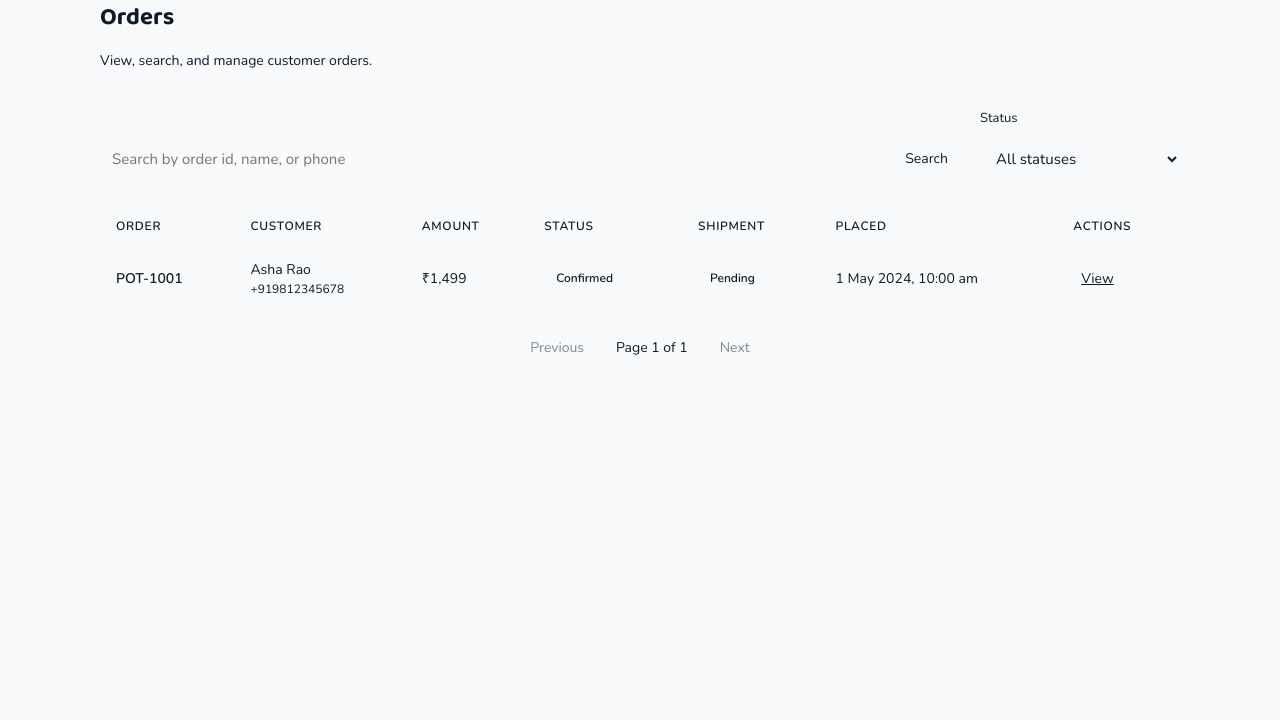
Test: Admin OrdersPage (Req 17) › shows a persistent manual-Shiprocket action for cancelled orders with a live shipment
Expected: the text "POT-1001" is shown, top-left (116, 268), bottom-right (183, 288)
Click the button "View" at (1098, 278), box top-left (1073, 264), bottom-right (1122, 292)
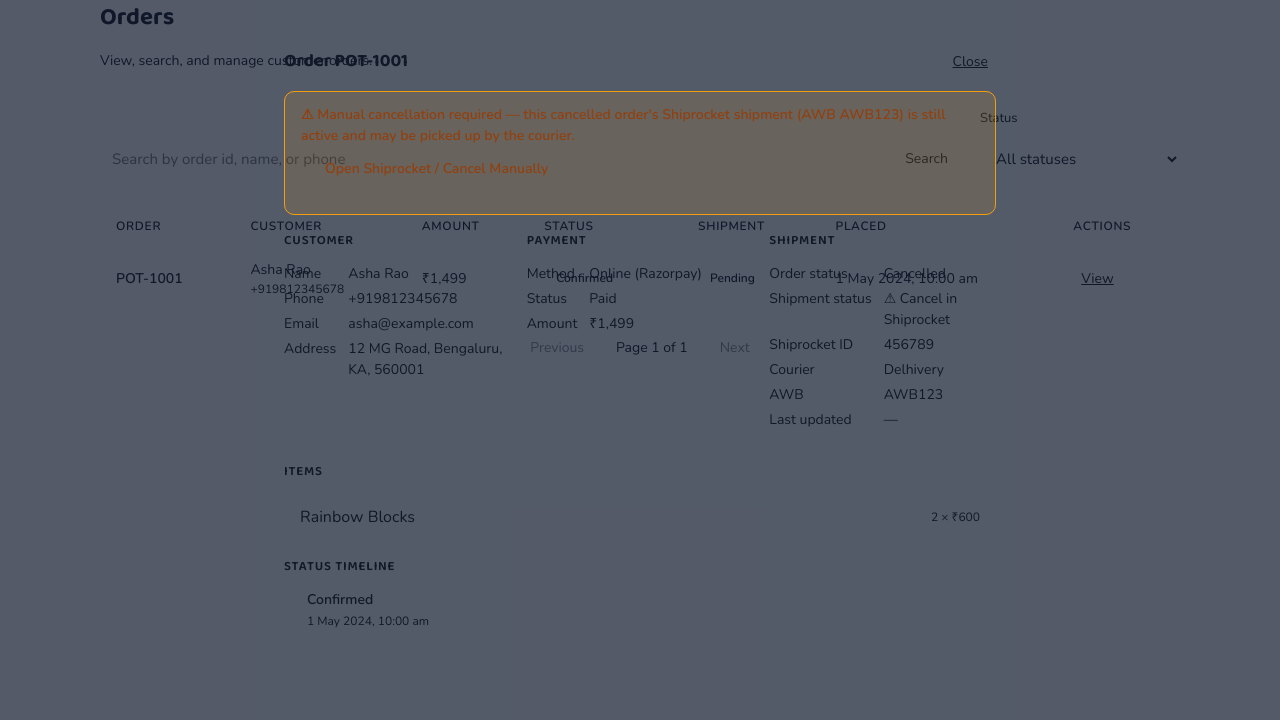
Now the message with test id "manual-shiprocket-action" shows "Manual cancellation required", box top-left (301, 105), bottom-right (793, 124)
Now the message with test id "manual-shiprocket-action" shows "AWB123", box top-left (793, 105), bottom-right (904, 124)
Now the text "456789" is shown, box top-left (884, 334), bottom-right (934, 354)
